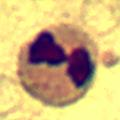eosi: (16, 23, 99, 106)
